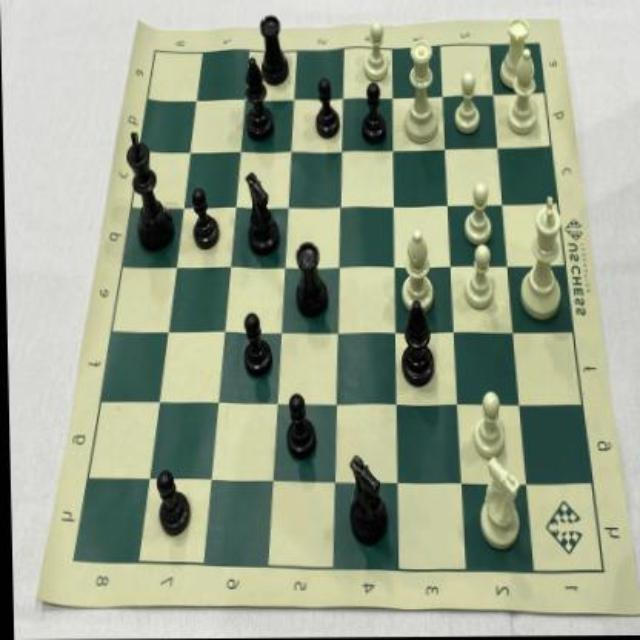black-bishop: (393, 297, 437, 393), (240, 50, 276, 146)
black-king: (123, 127, 175, 257)
black-knight: (338, 448, 390, 552), (242, 167, 282, 263)
black-pawn: (149, 461, 195, 544), (277, 386, 318, 466), (237, 307, 273, 382), (355, 79, 391, 149), (188, 182, 222, 254), (313, 76, 343, 146)
black-rook: (288, 235, 332, 323), (256, 10, 291, 93)
white-bishop: (395, 222, 438, 317), (503, 46, 541, 140)
white-king: (515, 191, 569, 325)
white-knight: (473, 451, 523, 555)
white-pawn: (466, 386, 510, 464), (458, 242, 498, 314), (461, 178, 496, 248), (360, 18, 394, 85), (451, 70, 483, 139)
white-queen: (400, 34, 441, 149)
white-rook: (493, 11, 533, 92)
